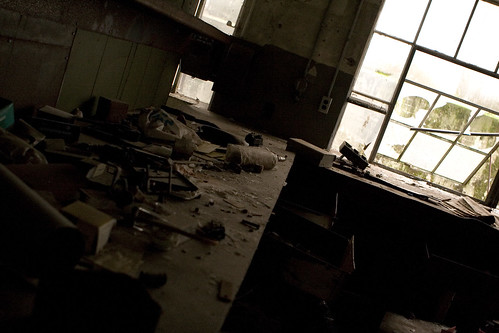trash: (1, 89, 332, 333)
window: (335, 1, 499, 197)
